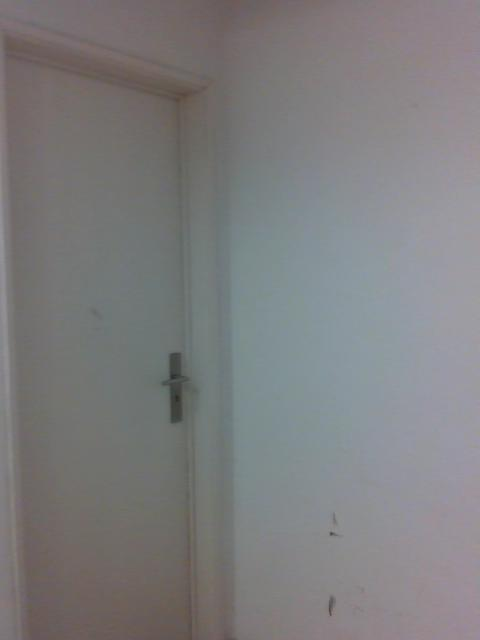door: (7, 42, 197, 632)
